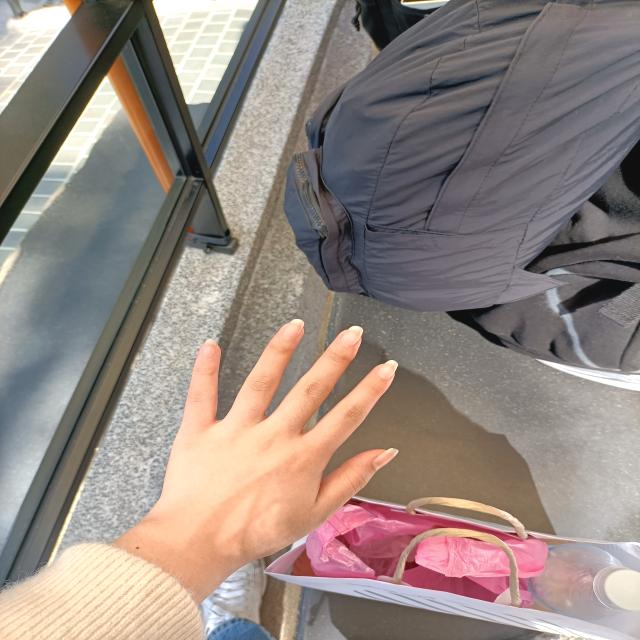no_glove: (143, 309, 402, 566)
